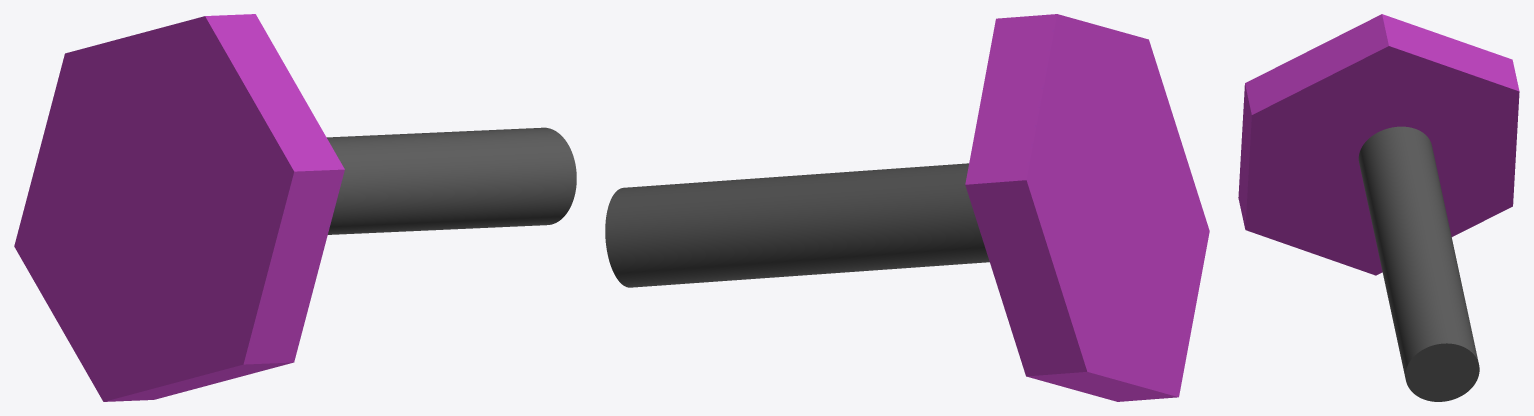
File: screw.glb
3 renders of one model, left to right at view 1: azimuth 30°, elevation 25°; view 2: azimuth 150°, elevation 25°; view 3: azimuth 270°, elevation 25°, orthographic. The views are drawn at different scales.
Parts seen in each view (by area): view 1: mesh_id83, mesh_id29; view 2: mesh_id83, mesh_id29; view 3: mesh_id83, mesh_id29.
Boxes of the visible parts, bbox=[...] form: mesh_id83: bbox=[14, 14, 344, 401]; mesh_id29: bbox=[326, 127, 576, 234]; mesh_id83: bbox=[965, 14, 1209, 401]; mesh_id29: bbox=[605, 163, 989, 287]; mesh_id83: bbox=[1238, 14, 1519, 275]; mesh_id29: bbox=[1358, 126, 1479, 401].
Bounding box in the file's own units: 0.9632 × 0.6746 × 0.609.
Materials: 2 (2 with a texture image).
